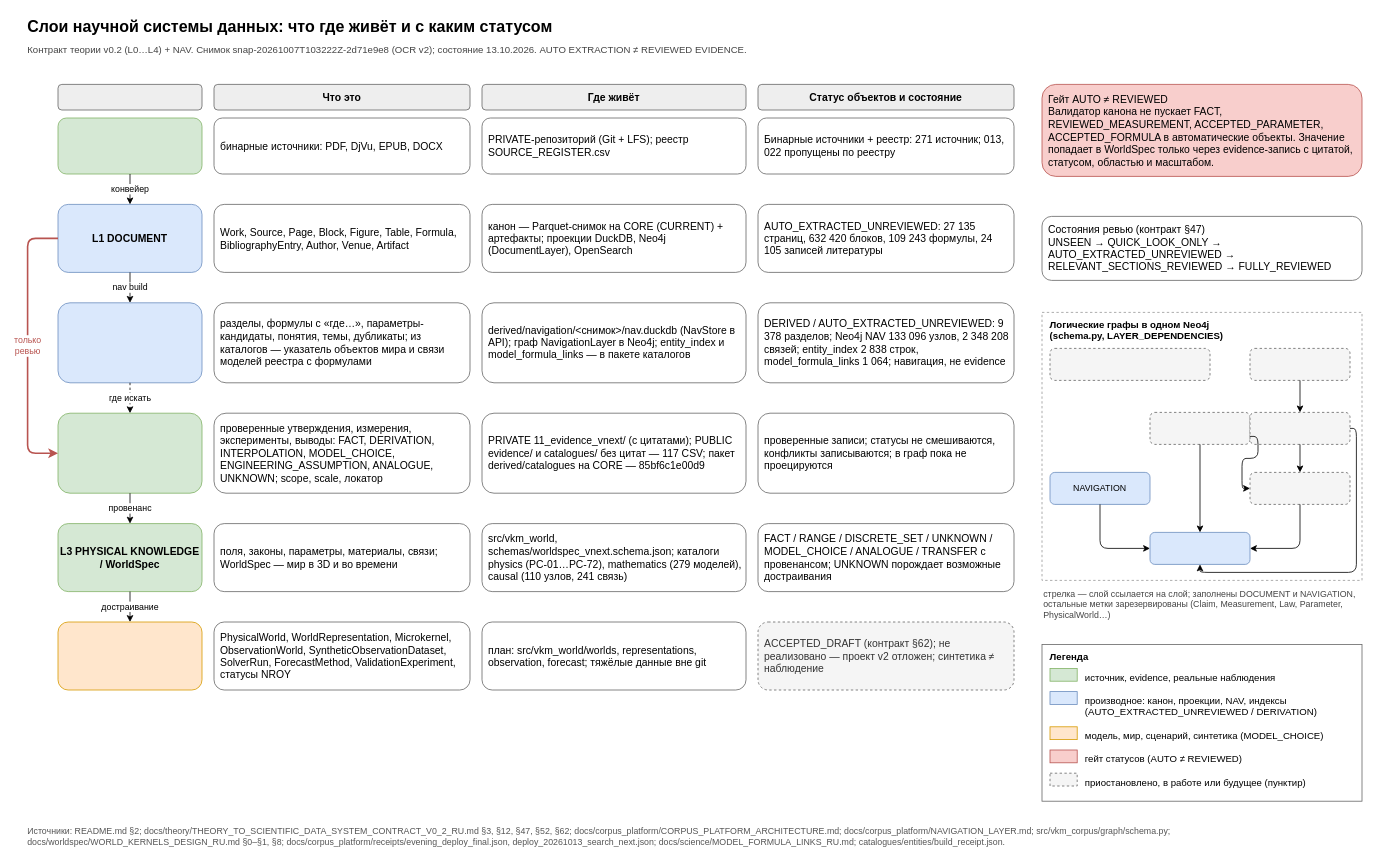
This 1377x866 diagram has some shape labels left out. Each missing label, with the centre of its shape:
DOCUMENT: the point at 1199,548
EVIDENCE: the point at 1299,488
L0 RAW: the point at 129,145
L2 EVIDENCE: the point at 129,452
L4 WORLDS / REPRESENTATIONS / OBSERVATIONS: the point at 129,655
NAV (навигация): the point at 129,342
OBSERVATION: the point at 1199,428
PHYSICS: the point at 1299,428
PROVENANCE → все пять слоёв: the point at 1129,364
REPRESENTATION: the point at 1299,364
Слой: the point at 129,97
